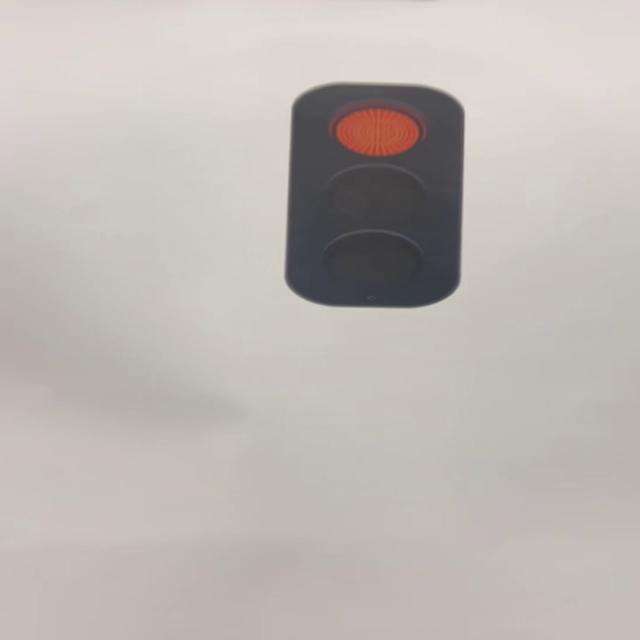red: (287, 82, 465, 312)
